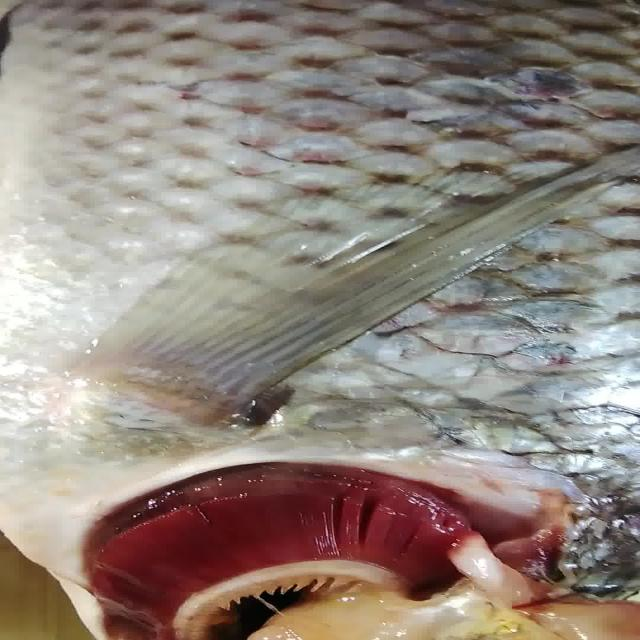Fresh: (48, 462, 500, 631)
